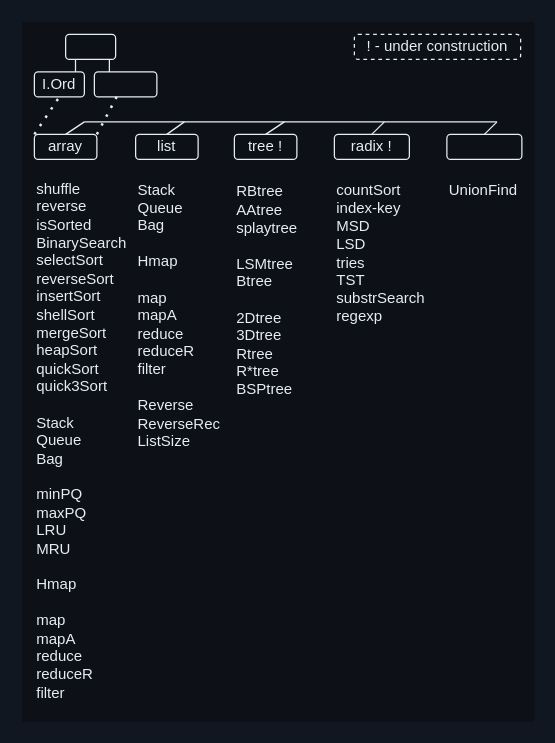
The diagram is 555 pixels wide and 743 high, and some of its shapes have lost their labels. Here are the shapes that lost their labels. From the top down, the centre of each, then its label:
(x=90, y=46): types
(x=125, y=84): I.Comp
(x=484, y=146): graph !
